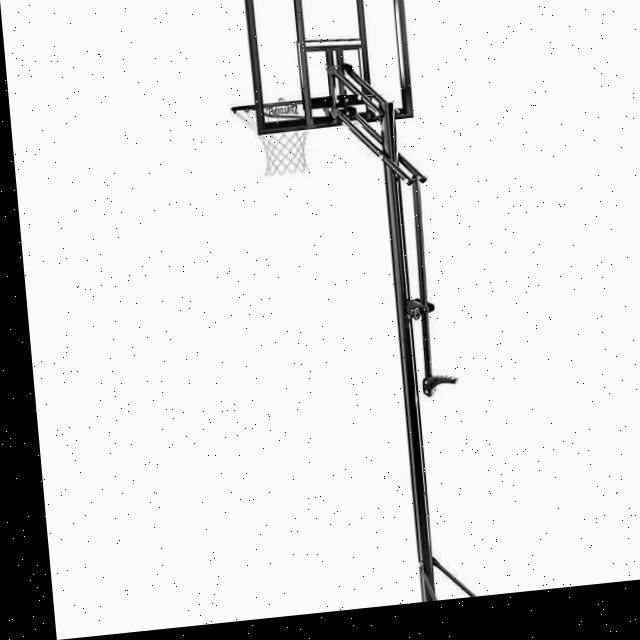hoop: (232, 98, 315, 179)
